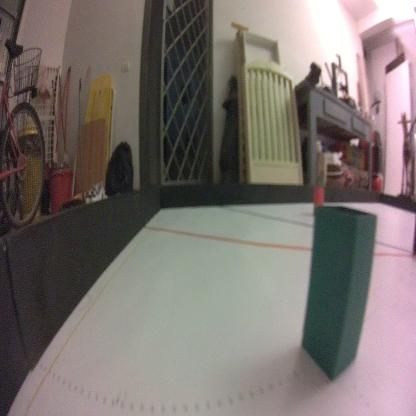green: (301, 202, 378, 385)
red: (312, 186, 324, 204)
